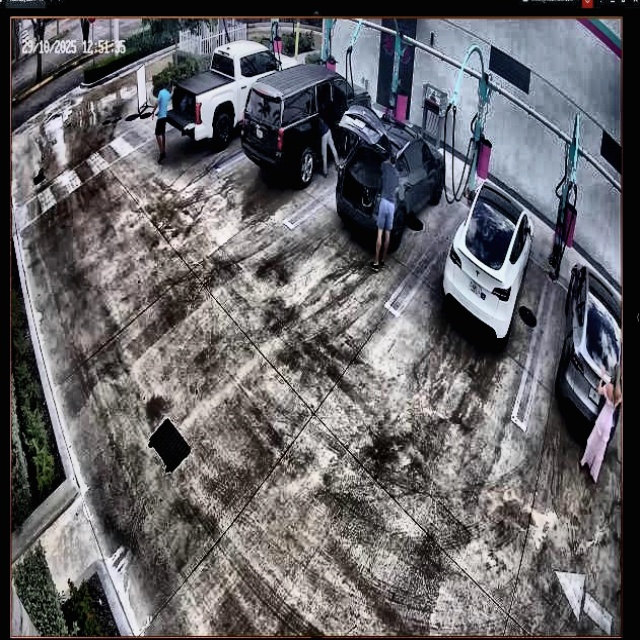Car: (336, 100, 446, 244), (243, 65, 369, 188), (443, 181, 535, 341)
